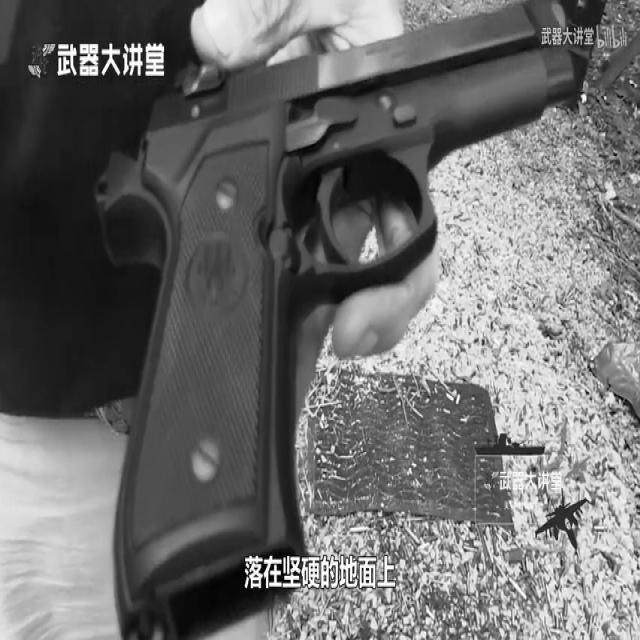Hand-Gun: (73, 0, 615, 632)
